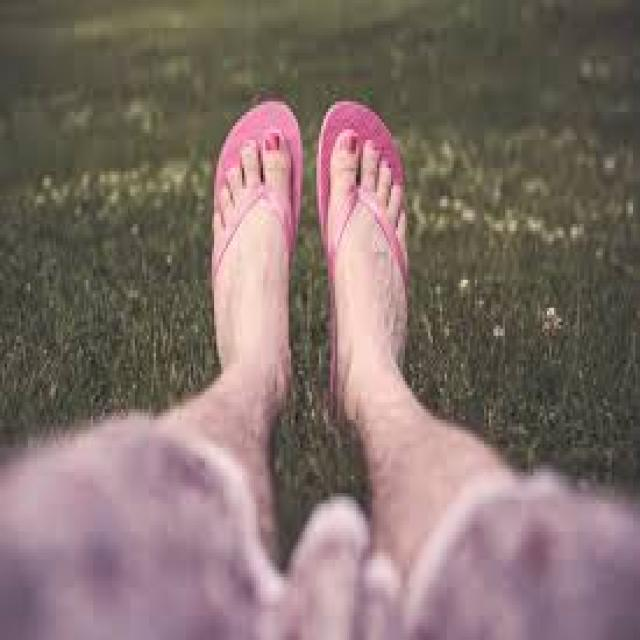Sandals: (179, 78, 447, 460)
